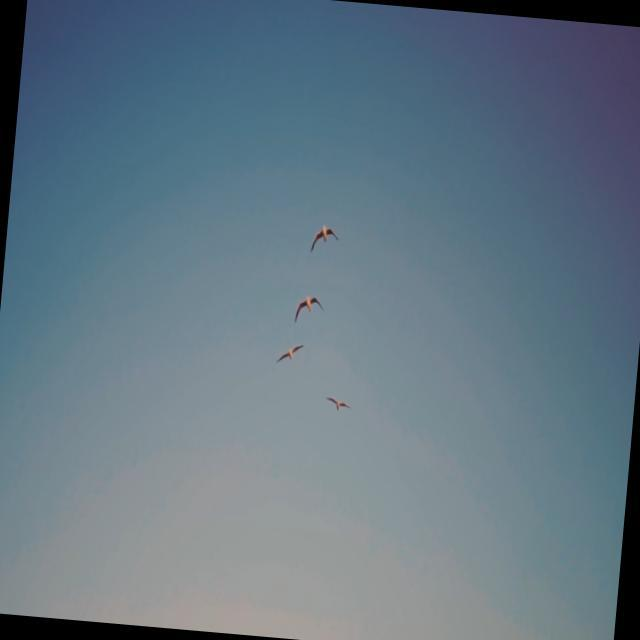bird: (309, 222, 341, 257), (294, 293, 327, 326), (276, 340, 306, 368), (323, 392, 353, 414)
